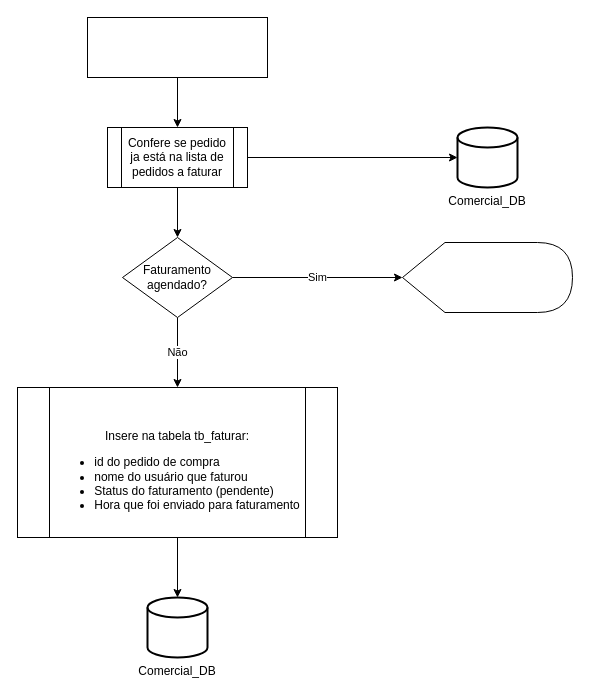
Image size: 590x696. Some labels were removed from this diagram. The shapes that lost their labels are listed below. From the top down, each one's box as (x1, y1, x2, y2) in pixels, then its label:
(86, 16, 268, 78): ERP Comercial [WindowsForms, C#, .Net 4.5]
(402, 242, 572, 312): Pedido já está na fila de faturamento
